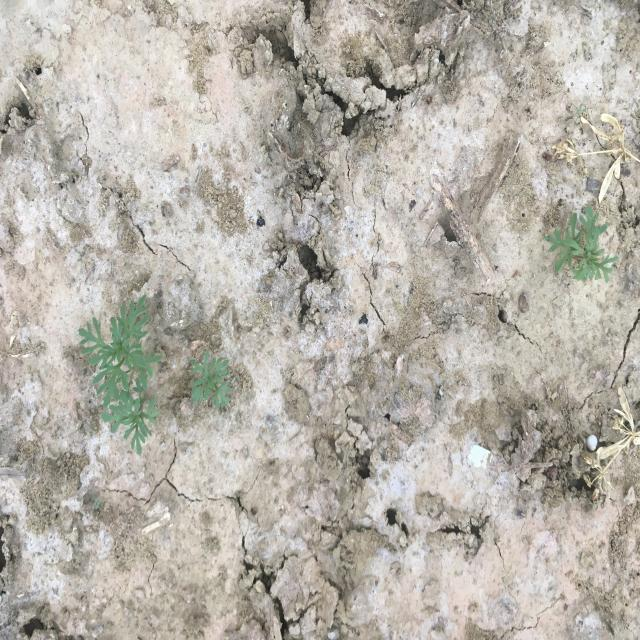Ragweed: (76, 293, 164, 457), (542, 204, 620, 284), (188, 348, 234, 412)
